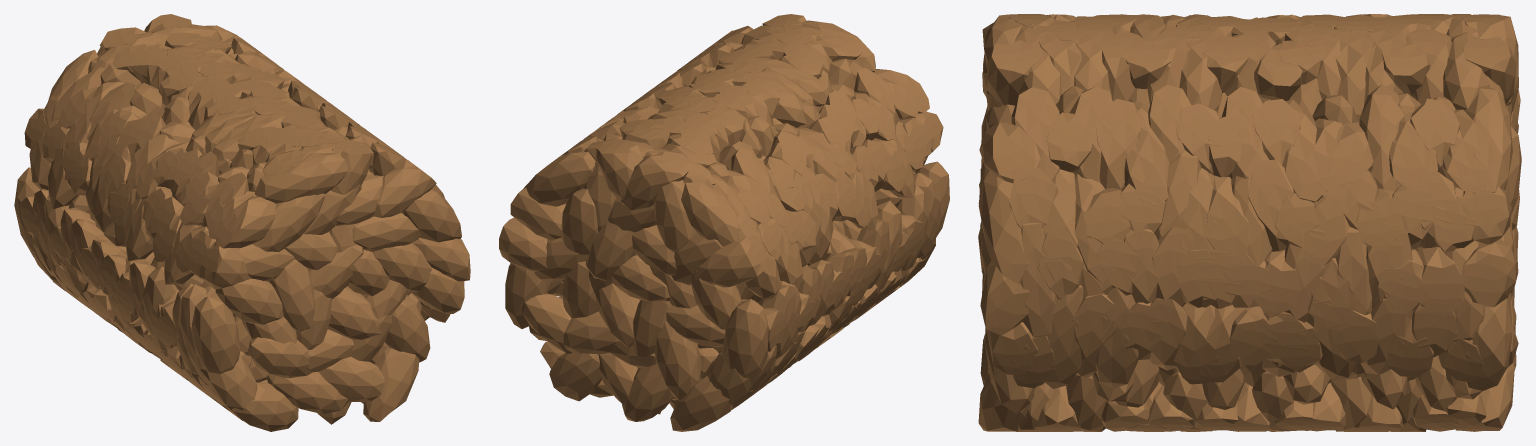
Rendered from jar_pile_75.glb.
The picture shows the model from 3 angles, left to right: view 1: azimuth 30°, elevation 25°; view 2: azimuth 150°, elevation 25°; view 3: azimuth 270°, elevation 25°; orthographic projection. The views are drawn at different scales.
Parts seen in each view (by area): view 1: world; view 2: world; view 3: world.
Boxes of the visible parts, x1,y1,x2,y2 form: world: (14,14,470,431); world: (499,14,949,431); world: (978,14,1521,431).
Bounding box in the file's own units: 0.0692 × 0.0688 × 0.09.
